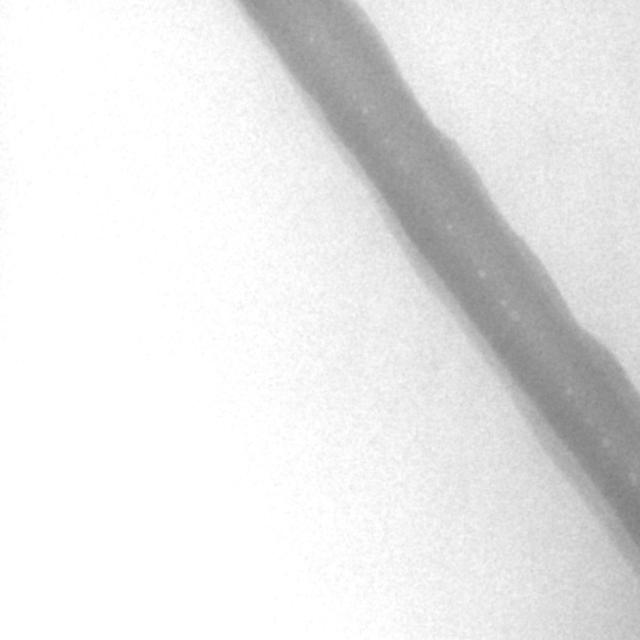air hole: (475, 265, 487, 278), (563, 384, 575, 396), (497, 296, 507, 308), (306, 34, 316, 43)
